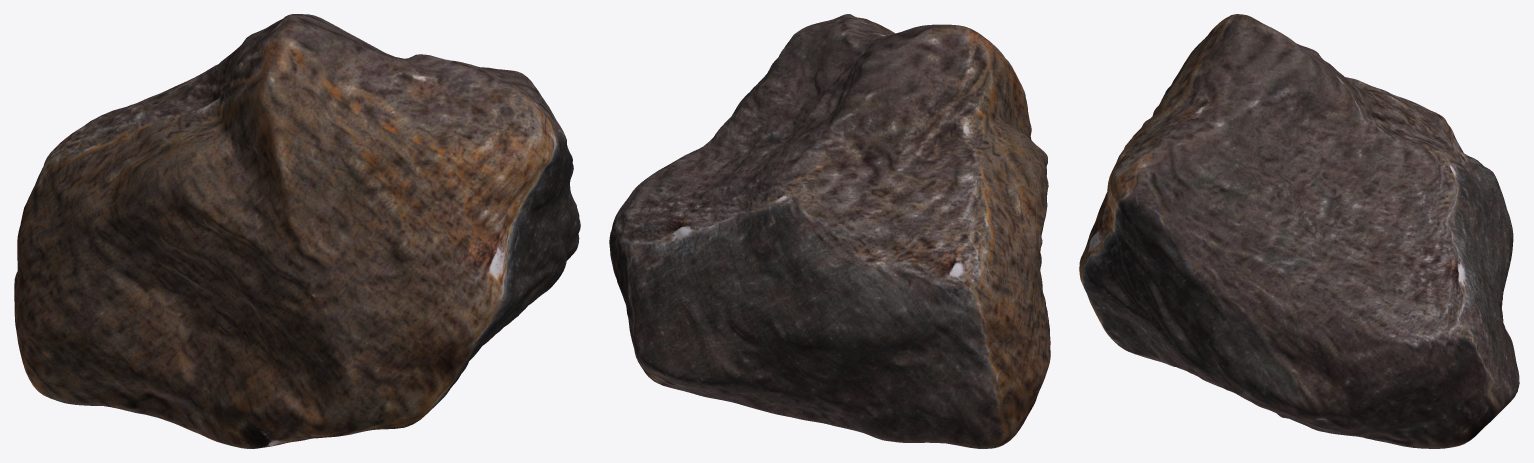
File: 612afe5c70d7_Realistic_rock_min.fbx
The picture shows the model from 3 angles, left to right: view 1: azimuth 30°, elevation 25°; view 2: azimuth 150°, elevation 25°; view 3: azimuth 270°, elevation 25°; orthographic projection. The views are drawn at different scales.
Parts seen in each view (by area): view 1: high_poly; view 2: high_poly; view 3: high_poly.
Boxes of the visible parts, box(x1,y1,x2,y2) form: high_poly: box(14, 14, 580, 448); high_poly: box(609, 14, 1050, 448); high_poly: box(1079, 14, 1519, 448).
Size of the model in its own units: 100 by 78.59 by 88.43.
